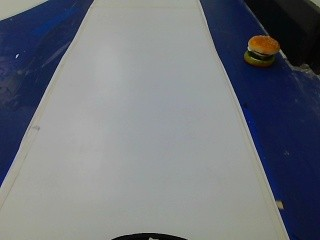burger: (244, 30, 281, 70)
